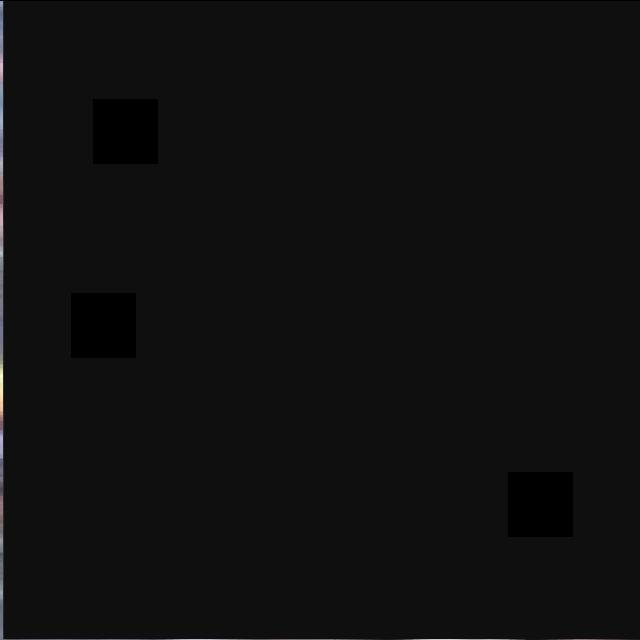fire: (3, 0, 640, 638)
